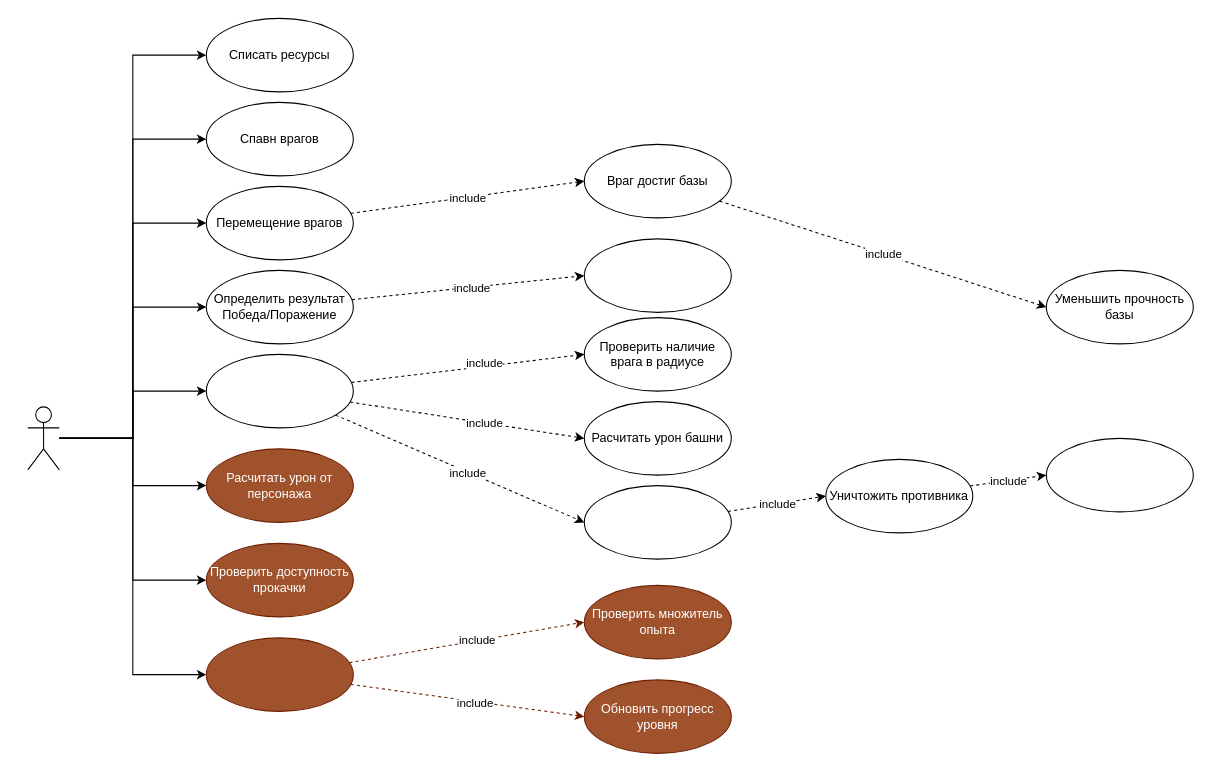
Image size: 1212x772. Some labels were removed from this diagram. Each missing label, with the centre of its shape:
Автоматическая атака по врагу: (279,390)
Начислить награду за уничтожение: (1119,474)
Начислить опыт: (279,674)
Применить урон к врагу: (657,522)
Проверить условия победы/поражения: (657,275)
Система: (43,438)
